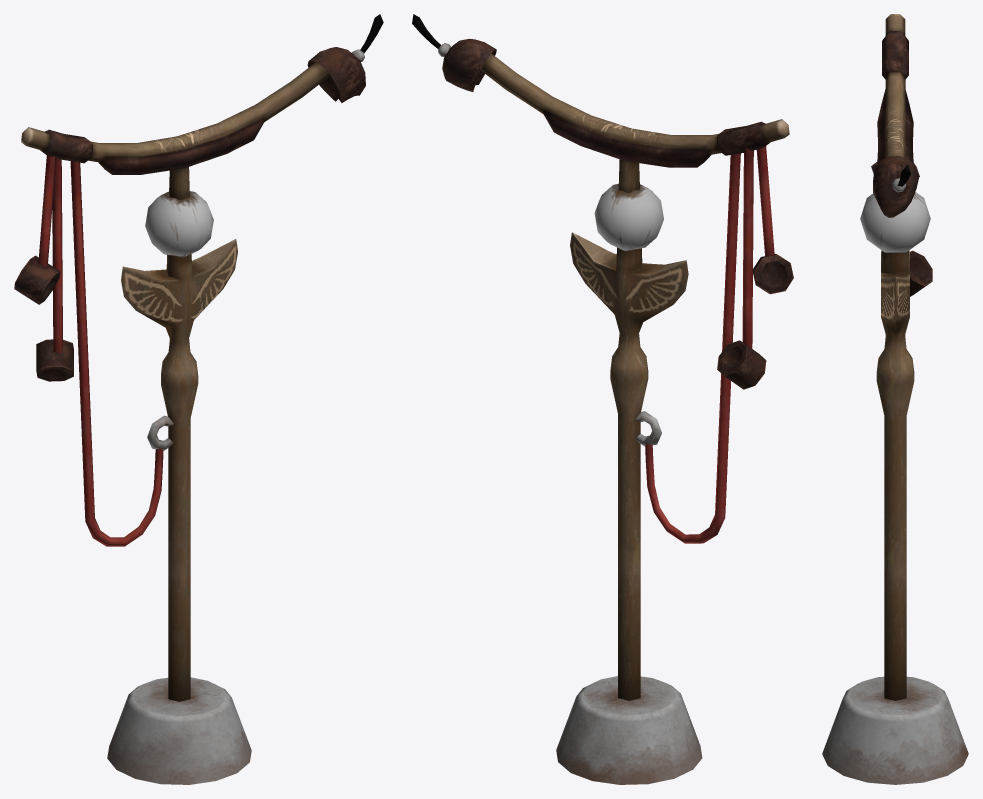
The model's file is luxury_perch.fbx.
3 renders of one model, left to right at view 1: azimuth 30°, elevation 25°; view 2: azimuth 150°, elevation 25°; view 3: azimuth 270°, elevation 25°, orthographic.
Parts seen in each view (by area): view 1: luxury_perch; view 2: luxury_perch; view 3: luxury_perch.
Part boxes in pixels (x1=…): luxury_perch: x1=14, y1=14, x2=383, y2=784; luxury_perch: x1=412, y1=14, x2=793, y2=784; luxury_perch: x1=822, y1=14, x2=968, y2=784.
Bounding box in the file's own units: 91.2 × 161 × 31.05.
